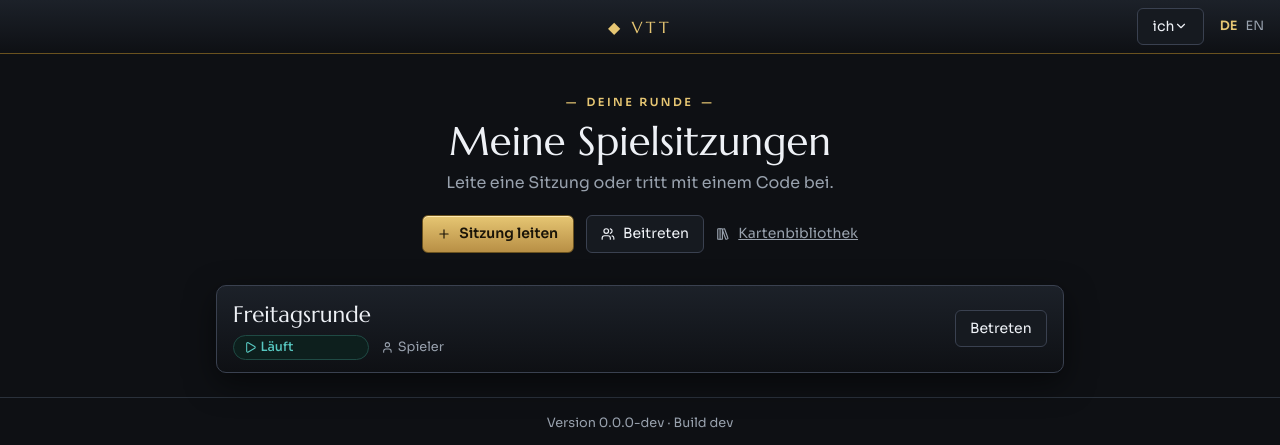
Scenario: Bereiche der Raumansicht › Reiter des Spielers
Expected: the heading "Freitagsrunde" is shown, [233,300,371,328]
What coordinates should you click on to do the following:
click the button "Betreten"
I would click on:
 (1001, 328)
Its box is [955,310,1047,347].
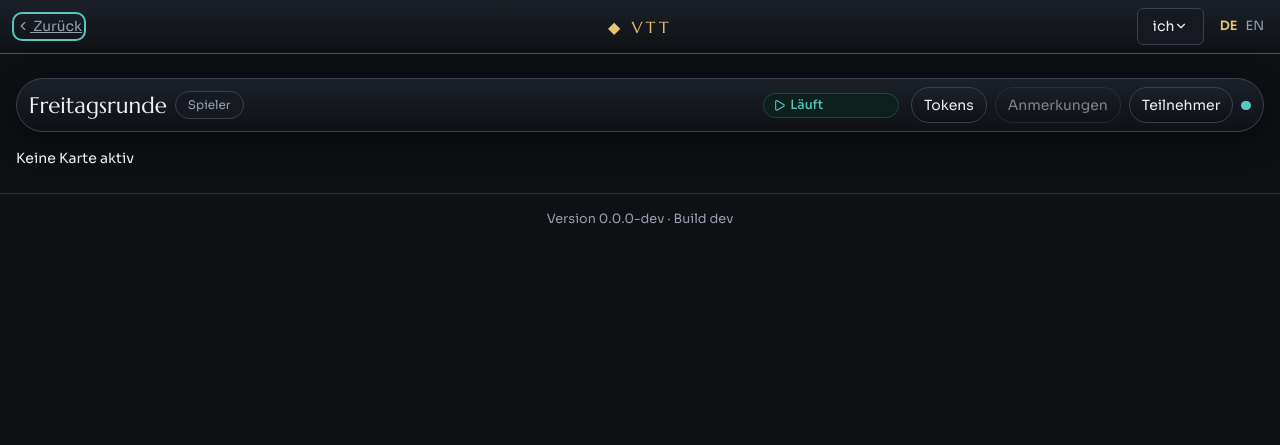
Expected: the element named "Sitzung" is shown, [16,78,1264,132]
Expected: the button "Tokens" is shown, [911,87,987,123]
Expected: the button "Anmerkungen" is shown, [995,87,1121,123]
